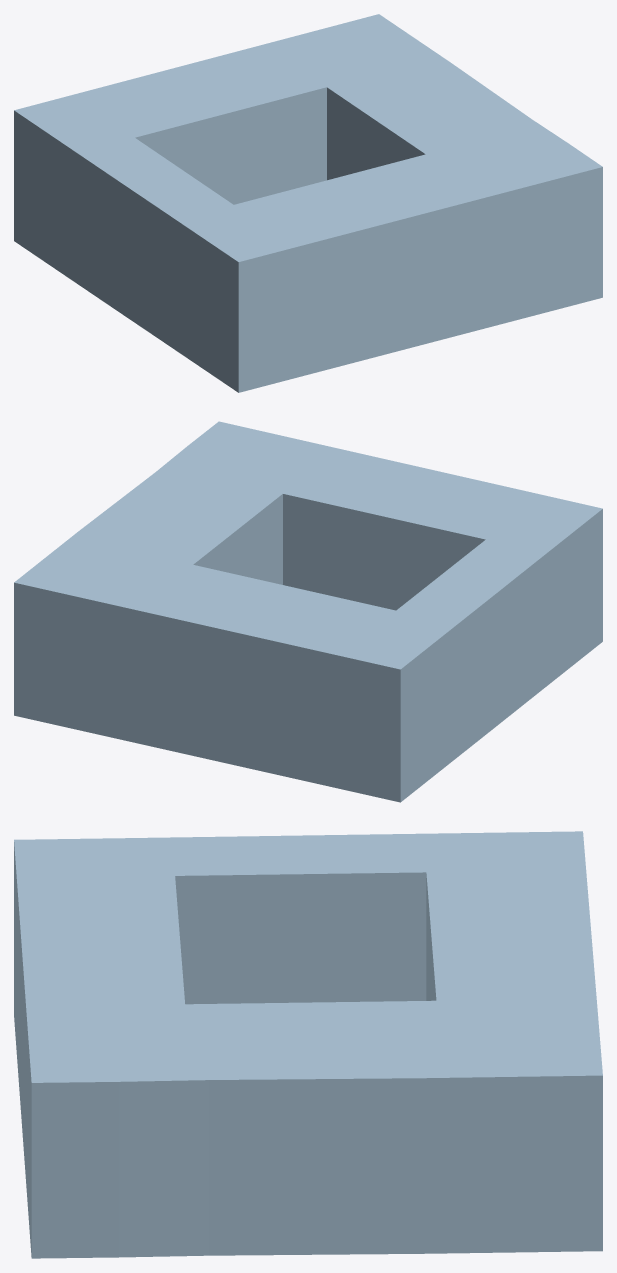
The model's file is osm_way_223699451.glb.
3 renders of one model, top to bottom at view 1: azimuth 30°, elevation 25°; view 2: azimuth 150°, elevation 25°; view 3: azimuth 270°, elevation 25°, orthographic. The views are drawn at different scales.
Parts seen in each view (by area): view 1: osm_way_223699451; view 2: osm_way_223699451; view 3: osm_way_223699451.
Part boxes in pixels (x1,y1,x2,y2): osm_way_223699451: (14,14,602,392); osm_way_223699451: (14,421,602,802); osm_way_223699451: (14,831,602,1258).
Size of the model in its own units: 56.83 by 18.5 by 56.23.
